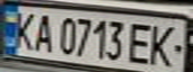0: (54, 14, 78, 56)
1: (90, 17, 109, 60)
3: (106, 17, 130, 62)
7: (72, 16, 93, 57)
A: (27, 10, 57, 53)
E: (124, 19, 157, 65)
K: (145, 21, 187, 70), (6, 8, 42, 52)
